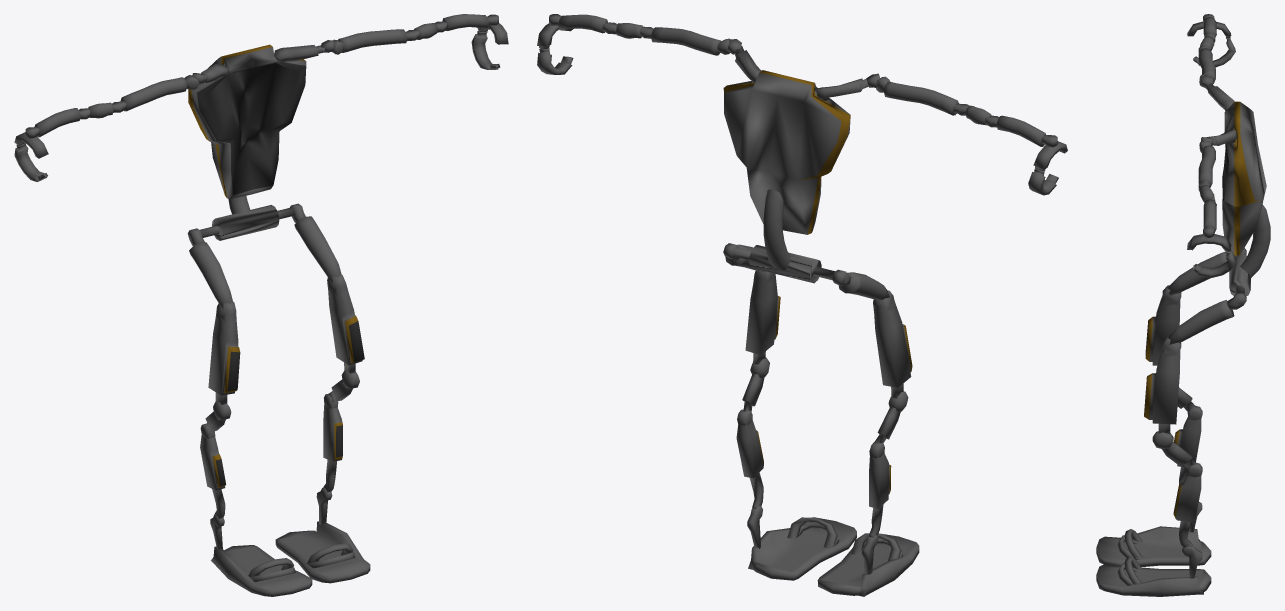
File: exoskeleton_unarmored.fbx
3 renders of one model, left to right at view 1: azimuth 30°, elevation 25°; view 2: azimuth 150°, elevation 25°; view 3: azimuth 270°, elevation 25°, orthographic. The views are drawn at different scales.
Parts seen in each view (by area): view 1: exoskeleton_unarmored; view 2: exoskeleton_unarmored; view 3: exoskeleton_unarmored.
Part boxes in pixels (x1=…): exoskeleton_unarmored: x1=14, y1=14, x2=508, y2=596; exoskeleton_unarmored: x1=537, y1=14, x2=1067, y2=596; exoskeleton_unarmored: x1=1096, y1=14, x2=1270, y2=596.
Bounding box in the file's own units: 163 × 160 × 54.7.
